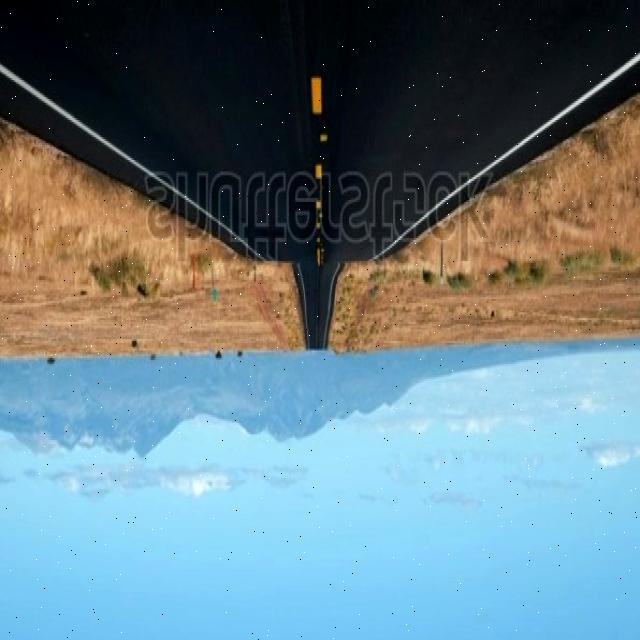lane: (470, 51, 640, 182), (0, 62, 159, 178), (311, 78, 321, 114), (315, 164, 322, 181), (316, 250, 322, 269), (319, 133, 328, 145)
road: (0, 4, 639, 349)
